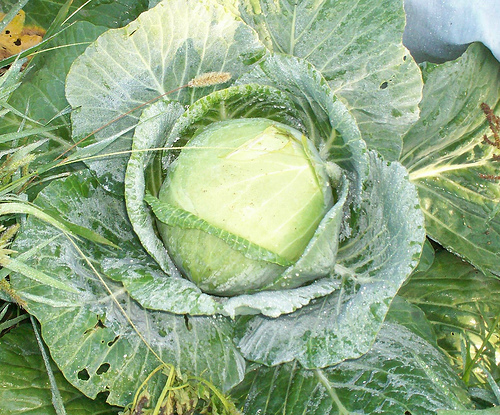cabbage: (1, 0, 498, 413)
